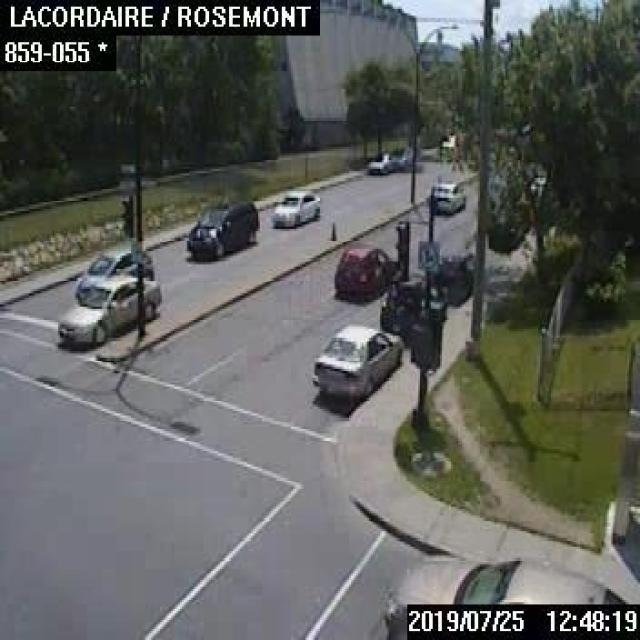vehicle: (380, 551, 628, 638), (57, 273, 158, 345), (311, 324, 401, 398), (185, 196, 258, 256), (379, 276, 446, 332), (76, 247, 152, 295), (332, 245, 395, 299), (428, 250, 474, 303), (269, 189, 320, 227), (426, 182, 463, 211), (365, 151, 401, 172), (392, 146, 410, 164)
